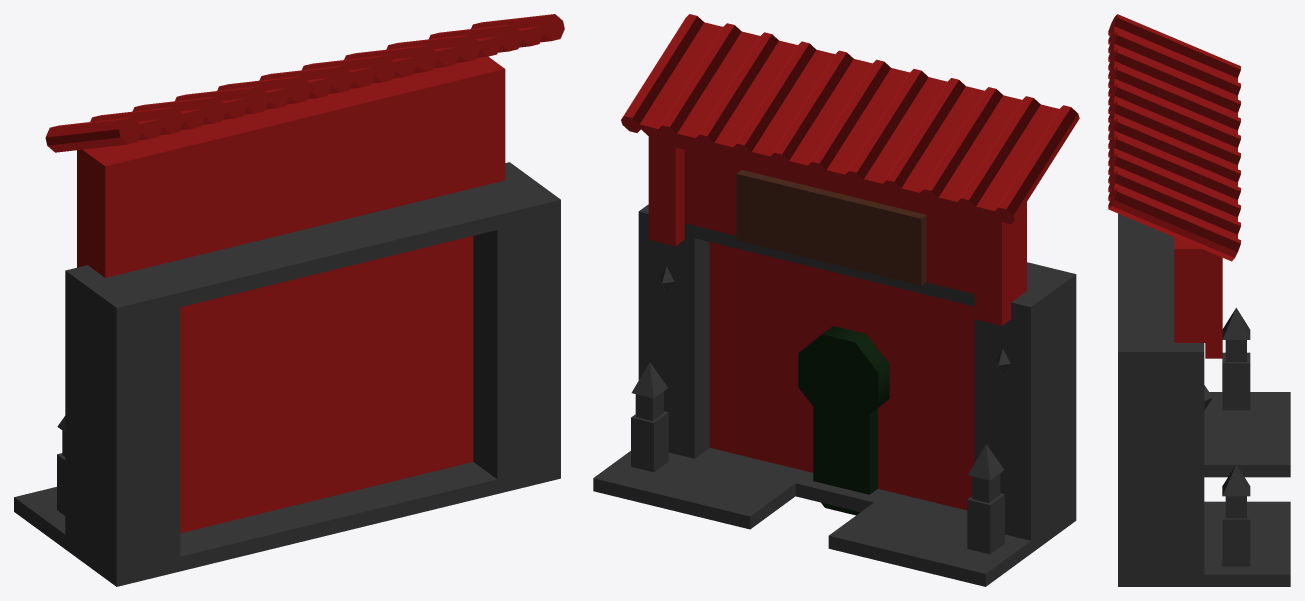
The model's file is darkness_level_gate2.FBX.
3 views of the same model, side by side, from view 1: azimuth 30°, elevation 25°; view 2: azimuth 150°, elevation 25°; view 3: azimuth 270°, elevation 25° (orthographic). The views are drawn at different scales.
Visible parts, largest first — view 1: Object058, Box099, Object059, Object054, Object056; view 2: Box099, Object058, Object059, Object054, Box100, Cylinder001, Object056, Object055; view 3: Object058, Box099, Object056, Object055.
Part boxes in pixels (x1,y1,x2,y2): Object058: (14, 162, 560, 586); Box099: (45, 14, 564, 277); Object059: (315, 236, 473, 500); Object054: (180, 274, 314, 533); Object056: (57, 416, 65, 515); Box099: (621, 14, 1079, 325); Object058: (593, 204, 1076, 586); Object059: (709, 242, 849, 472); Object054: (850, 276, 974, 510); Box100: (736, 170, 926, 285); Cylinder001: (798, 326, 889, 515); Object056: (967, 444, 1004, 554); Object055: (631, 362, 668, 472); Object058: (1118, 213, 1290, 586); Box099: (1108, 14, 1240, 358); Object056: (1222, 307, 1250, 410); Object055: (1222, 464, 1250, 566).
Bounding box in the file's own units: 50 × 51.48 × 21.11.
